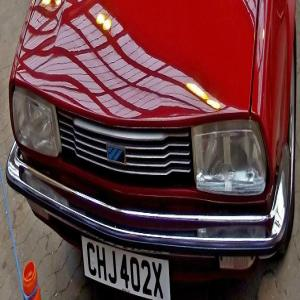Vehicle-registration-plate: (82, 237, 172, 300)
